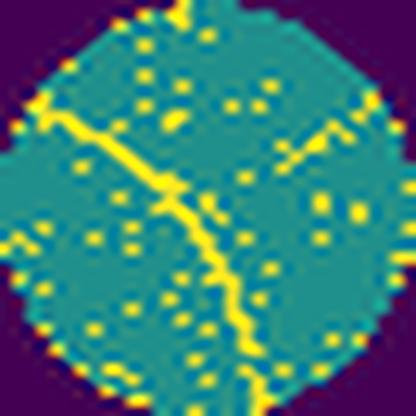Scratch: (23, 86, 272, 360), (270, 113, 360, 180), (233, 359, 280, 416)
